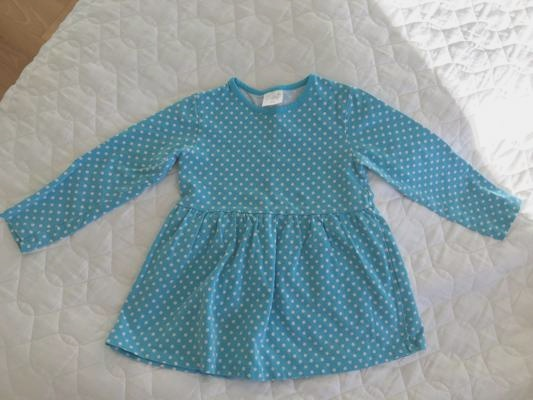Dress: (12, 78, 533, 385)
